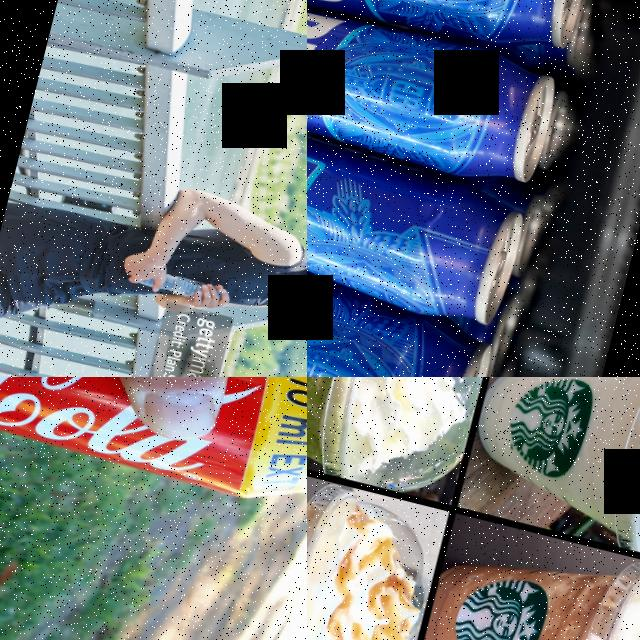bottle: (128, 262, 225, 306)
can: (307, 54, 530, 331), (307, 0, 564, 194), (0, 377, 307, 521), (307, 160, 499, 377)
cup: (456, 377, 640, 581), (307, 435, 450, 640), (406, 517, 640, 640), (307, 377, 497, 503)
